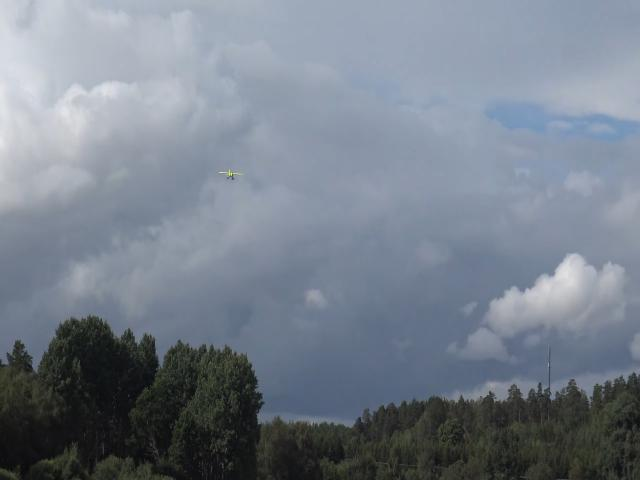plane: (218, 170, 242, 181)
